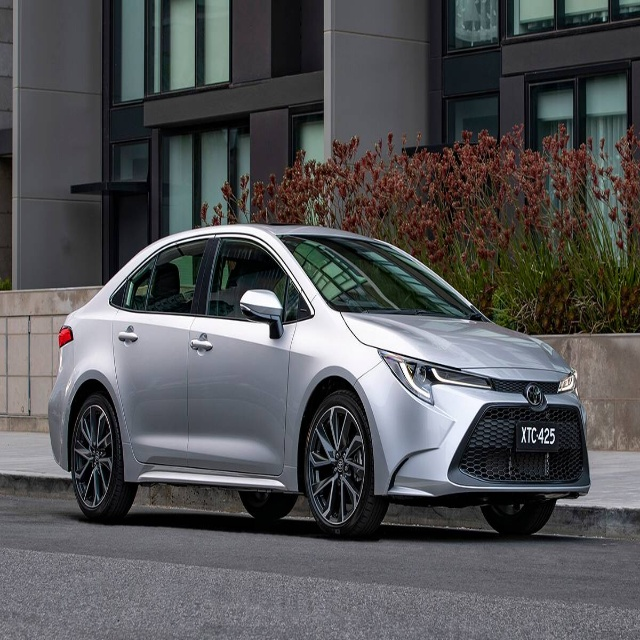Car: (47, 223, 591, 542)
